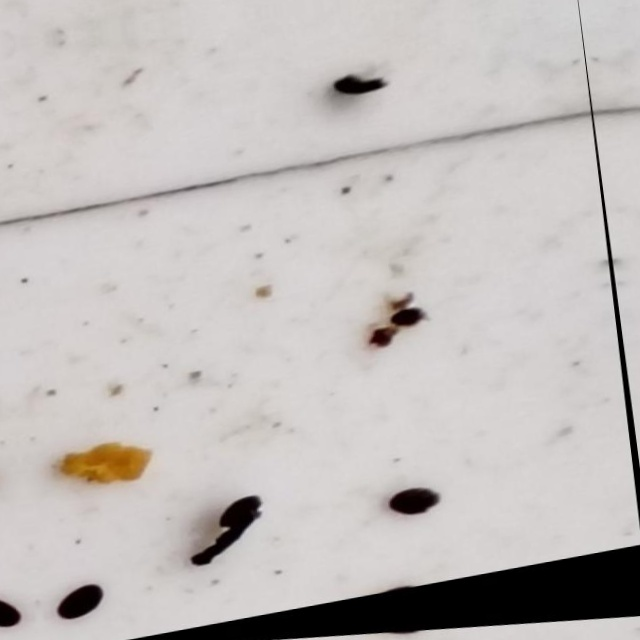varroa: (53, 582, 110, 624), (386, 487, 444, 525), (331, 74, 389, 107), (219, 496, 270, 533), (364, 584, 428, 601)
